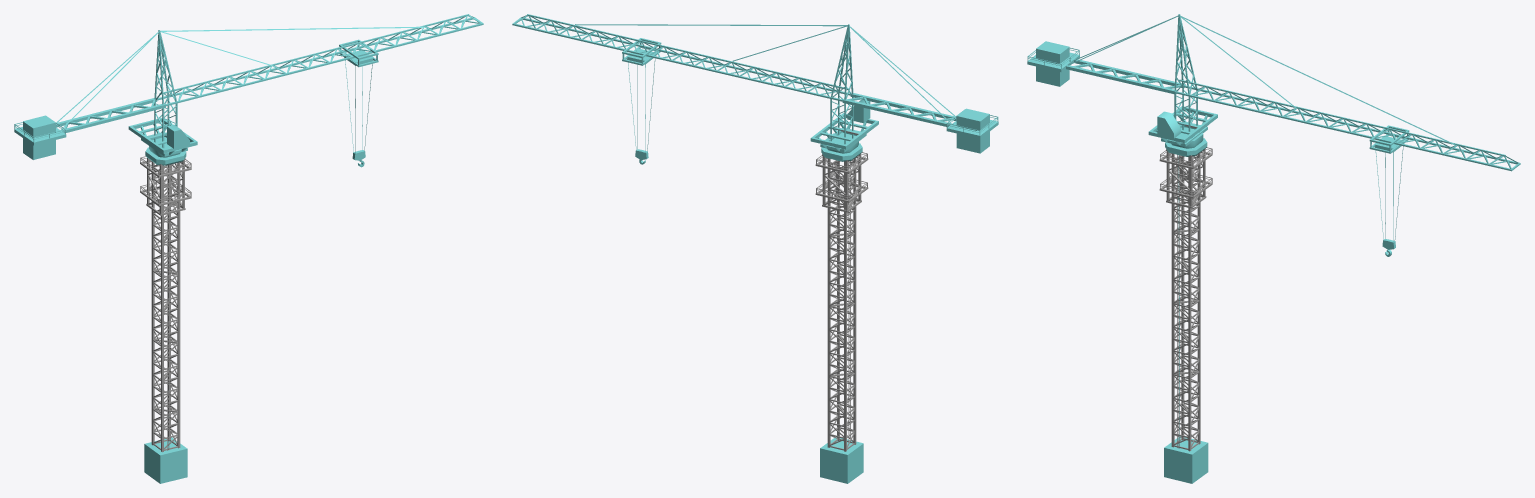
Rendered from shuita.fbx.
3 renders of one model, left to right at view 1: azimuth 30°, elevation 25°; view 2: azimuth 150°, elevation 25°; view 3: azimuth 330°, elevation 25°, orthographic. The views are drawn at different scales.
Visible parts, largest first — view 1: group2, obj8, polySurface209, obj7, obj6, polySurface210, obj29; view 2: group2, obj8, polySurface209, obj7, obj6, obj29; view 3: group2, obj8, polySurface209, obj7, obj6, obj29.
Part boxes in pixels (x1,y1,x2,y2): group2: [14, 14, 483, 167]; obj8: [151, 161, 180, 452]; polySurface209: [144, 147, 187, 483]; obj7: [153, 256, 177, 358]; obj6: [153, 348, 177, 404]; polySurface210: [168, 165, 169, 449]; obj29: [141, 158, 191, 213]; group2: [512, 14, 998, 164]; obj8: [827, 157, 856, 451]; polySurface209: [820, 143, 863, 483]; obj7: [829, 254, 854, 356]; obj6: [829, 347, 854, 403]; obj29: [816, 154, 867, 210]; group2: [1027, 14, 1520, 256]; obj8: [1171, 152, 1200, 451]; polySurface209: [1164, 138, 1208, 483]; obj7: [1173, 250, 1199, 354]; obj6: [1173, 345, 1199, 402]; obj29: [1160, 149, 1211, 206].
Size of the model in its own units: 122 by 113 by 16.05.
